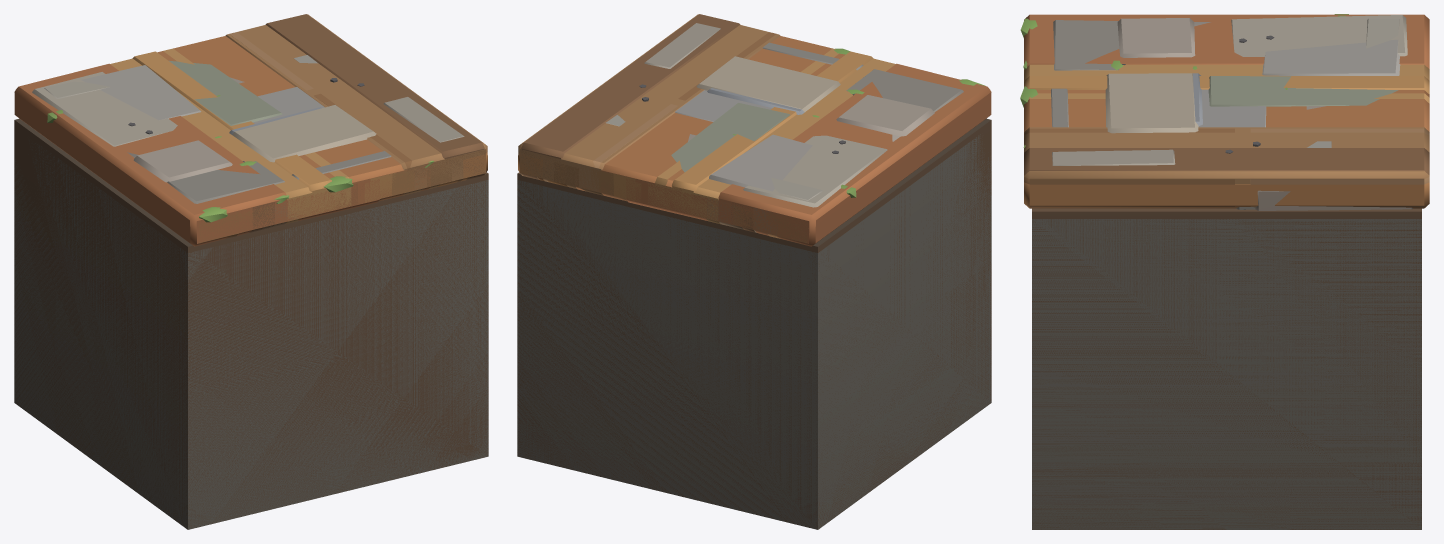
Rendered from core.glb.
3 renders of one model, left to right at view 1: azimuth 30°, elevation 25°; view 2: azimuth 150°, elevation 25°; view 3: azimuth 270°, elevation 25°, orthographic. The views are drawn at different scales.
Parts seen in each view (by area): view 1: b_wood~0, b_stone~0, b_wood~2, b_wood~3, b_wood~1, b_stone~3, b_stone~1, b_stone~4, b_stone~5, b_wood~4; view 2: b_stone~0, b_wood~0, b_wood~2, b_wood~1, b_wood~3, b_stone~3, b_stone~1, b_wood~4, b_stone~4, b_stone~5; view 3: b_stone~0, b_wood~0, b_wood~1, b_wood~3, b_wood~2, b_stone~3, b_stone~1, b_stone~5, b_stone~4, b_wood~4.
Boxes of the visible parts, x1,y1,x2,y2 form: b_wood~0: (14,118,488,529); b_stone~0: (14,72,488,529); b_wood~2: (14,32,487,246); b_wood~3: (157,14,484,242); b_wood~1: (110,14,487,243); b_stone~3: (44,55,391,182); b_stone~1: (169,60,464,203); b_stone~4: (167,77,353,203); b_stone~5: (81,65,227,222); b_wood~4: (128,51,485,242); b_stone~0: (517,88,991,529); b_wood~0: (517,118,991,529); b_wood~2: (518,32,991,246); b_wood~1: (518,14,895,243); b_wood~3: (521,14,845,241); b_stone~3: (606,42,934,200); b_stone~1: (644,23,819,172); b_wood~4: (520,51,873,242); b_stone~4: (675,48,963,141); b_stone~5: (709,79,985,191); b_stone~0: (1032,15,1421,529); b_wood~0: (1024,182,1429,529); b_wood~1: (1024,64,1429,184); b_wood~3: (1024,90,1429,175); b_wood~2: (1024,14,1429,207); b_stone~3: (1051,14,1399,147); b_stone~1: (1023,60,1398,165); b_stone~5: (1020,18,1412,210); b_stone~4: (1020,20,1325,127); b_wood~4: (1024,35,1429,93).
Size of the model in its own units: 1.01 by 1.04 by 1.05.
